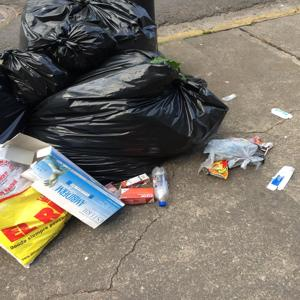cardboard: (27, 146, 128, 226), (1, 128, 54, 167), (118, 173, 157, 203), (260, 163, 295, 196), (252, 136, 277, 164)
plastic: (1, 161, 76, 262), (203, 137, 248, 176)
plastic bottle: (151, 161, 171, 208)
